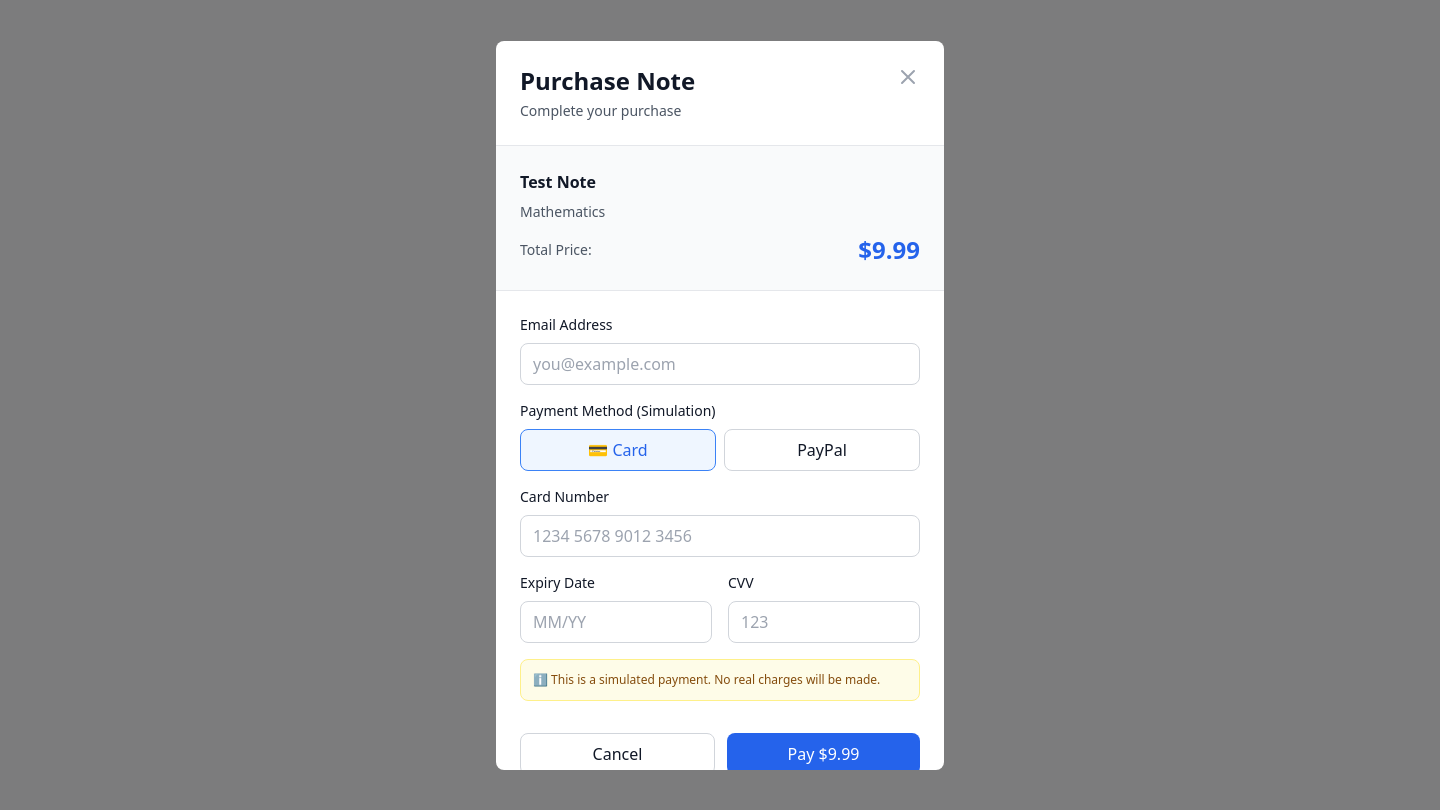
Test: PurchaseModal Component › switches between card and paypal payment methods
The width and height of the screenshot is (1440, 810).
Click the button "PayPal": (822, 450) [724, 428, 920, 470]
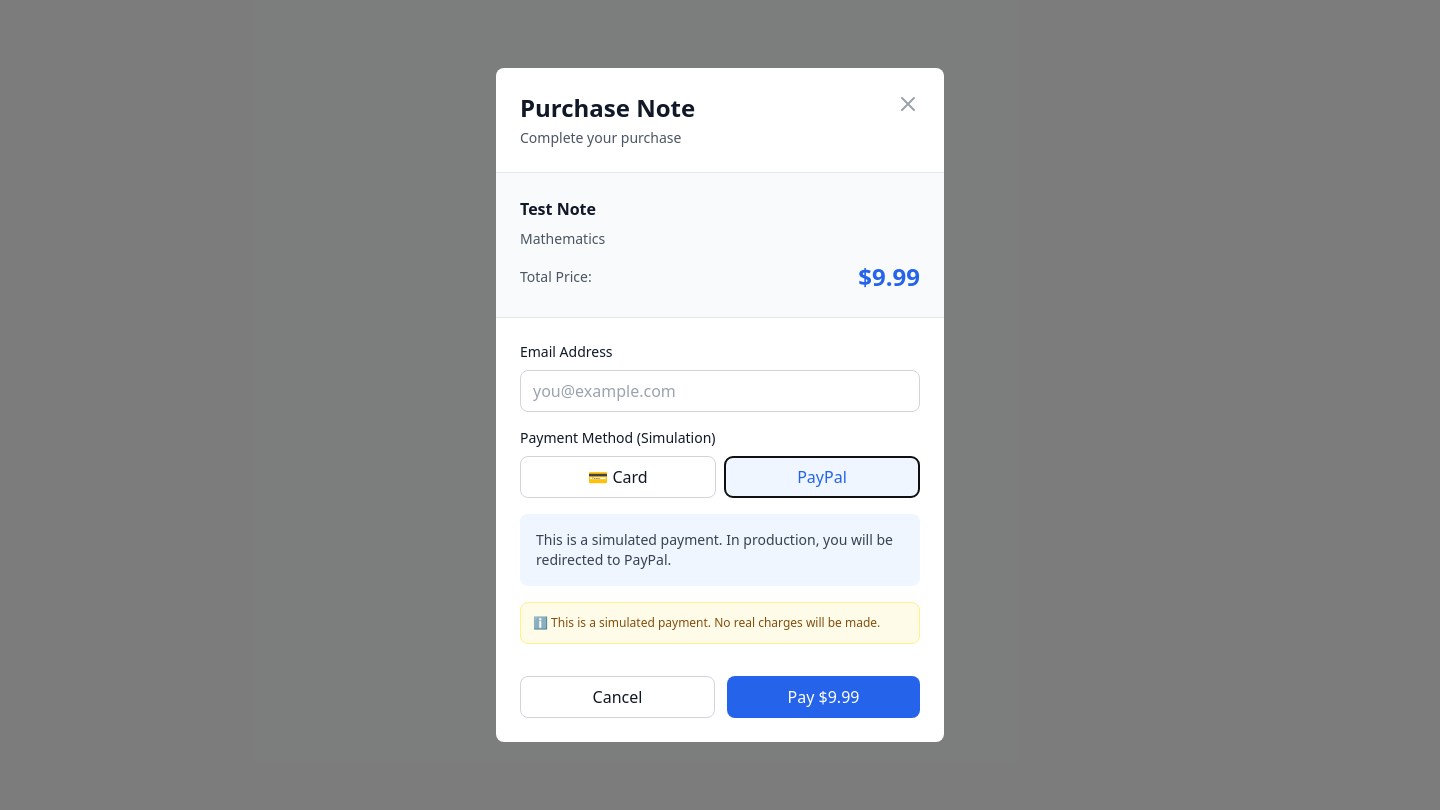
Check: the text "you will be redirected to PayPal" is shown, box [536, 530, 893, 569]
